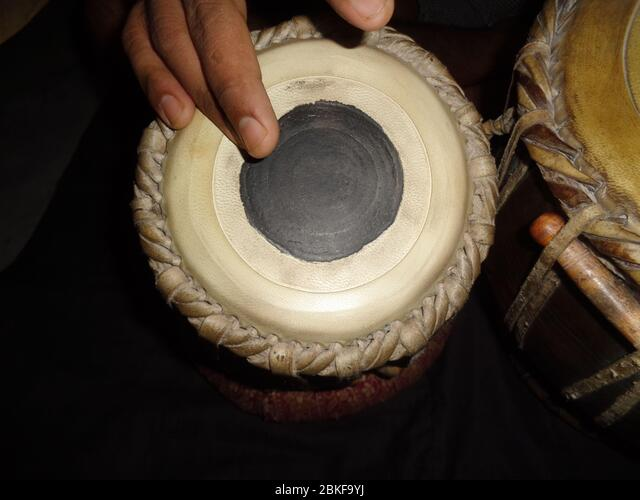tabla: (112, 20, 500, 397), (507, 6, 638, 441)
